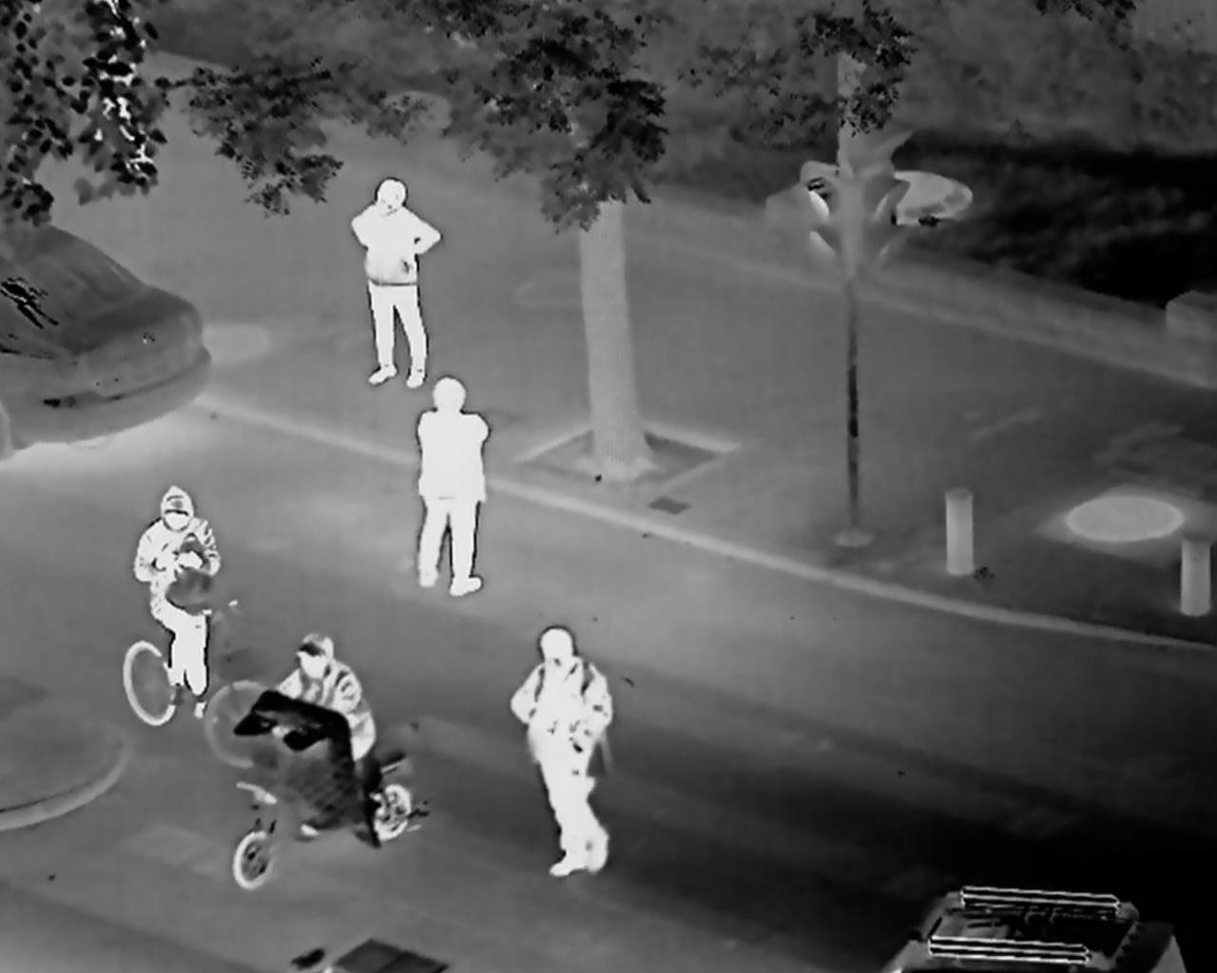person: (510, 618, 620, 879), (142, 485, 225, 700), (357, 180, 429, 389), (425, 380, 493, 595), (279, 627, 369, 736)
